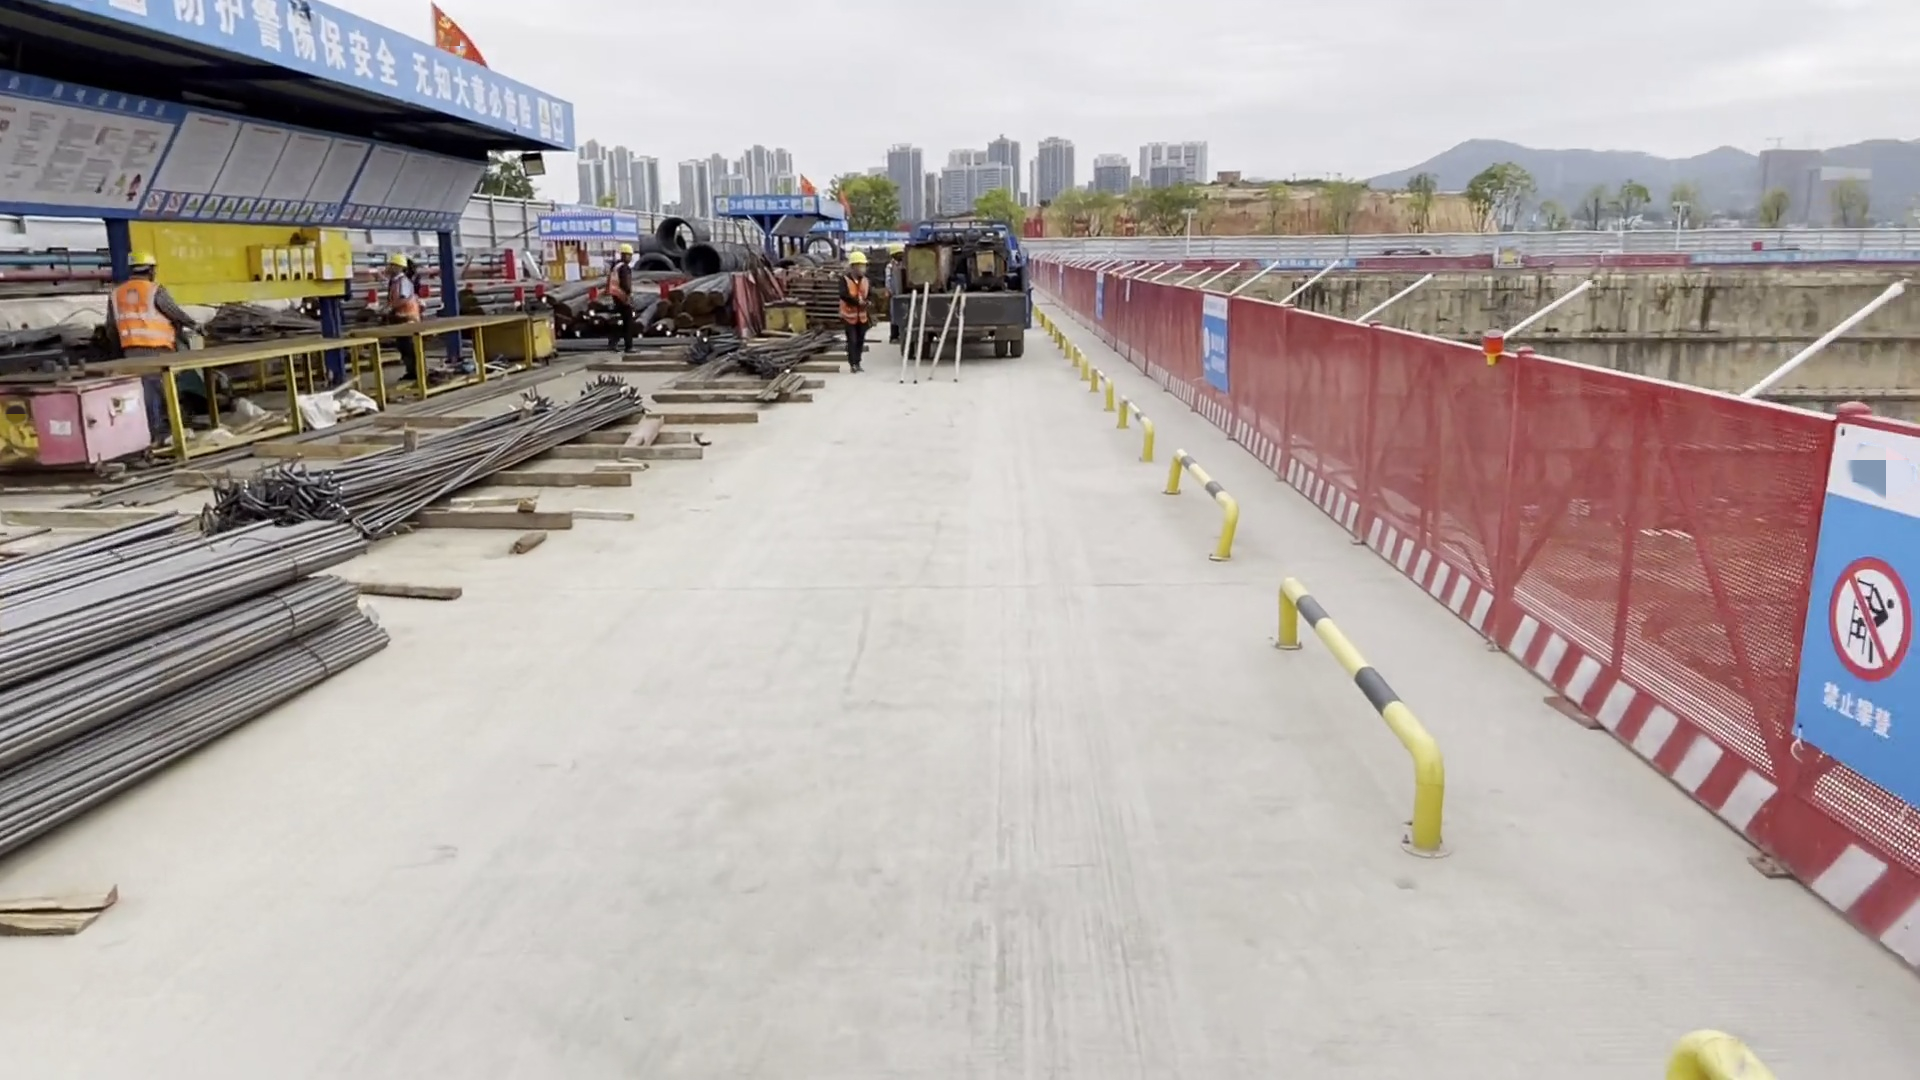ebox: (249, 224, 358, 284), (967, 251, 1010, 288)
fence: (1267, 327, 1920, 819), (1414, 253, 1693, 284)
helmet: (126, 246, 155, 263), (386, 252, 408, 268), (619, 239, 634, 257), (889, 239, 906, 254), (849, 252, 868, 262)
person: (106, 242, 185, 447), (383, 250, 424, 384), (839, 248, 875, 377), (602, 228, 637, 361), (885, 231, 911, 347)
rebar: (1, 517, 386, 864), (233, 407, 645, 513)
slogan: (79, 1, 569, 140), (1796, 426, 1920, 775), (1191, 293, 1243, 396), (718, 192, 815, 217), (537, 217, 618, 237)
vest: (112, 282, 163, 347), (842, 279, 873, 323), (606, 263, 631, 303), (391, 277, 414, 321)
